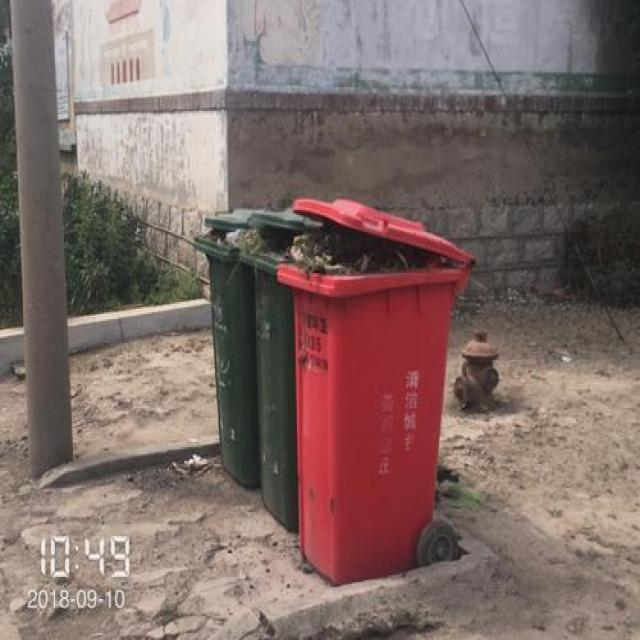overflow: (275, 197, 471, 586), (192, 206, 260, 486), (238, 207, 297, 529)
